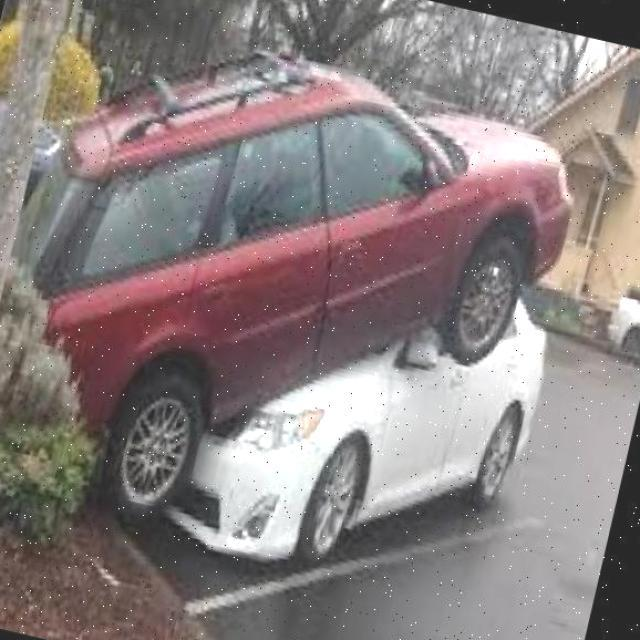accident: (160, 75, 540, 544)
